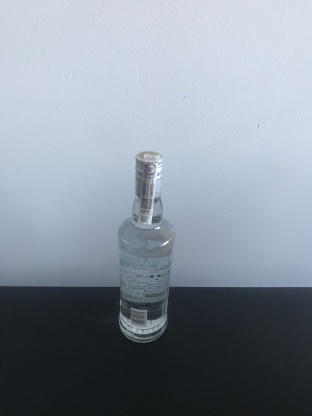nakretka: (132, 147, 165, 202)
